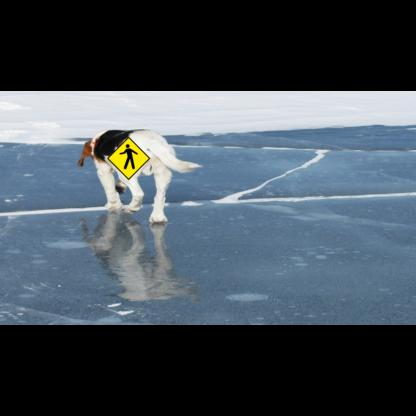A-32a: (107, 137, 150, 180)
